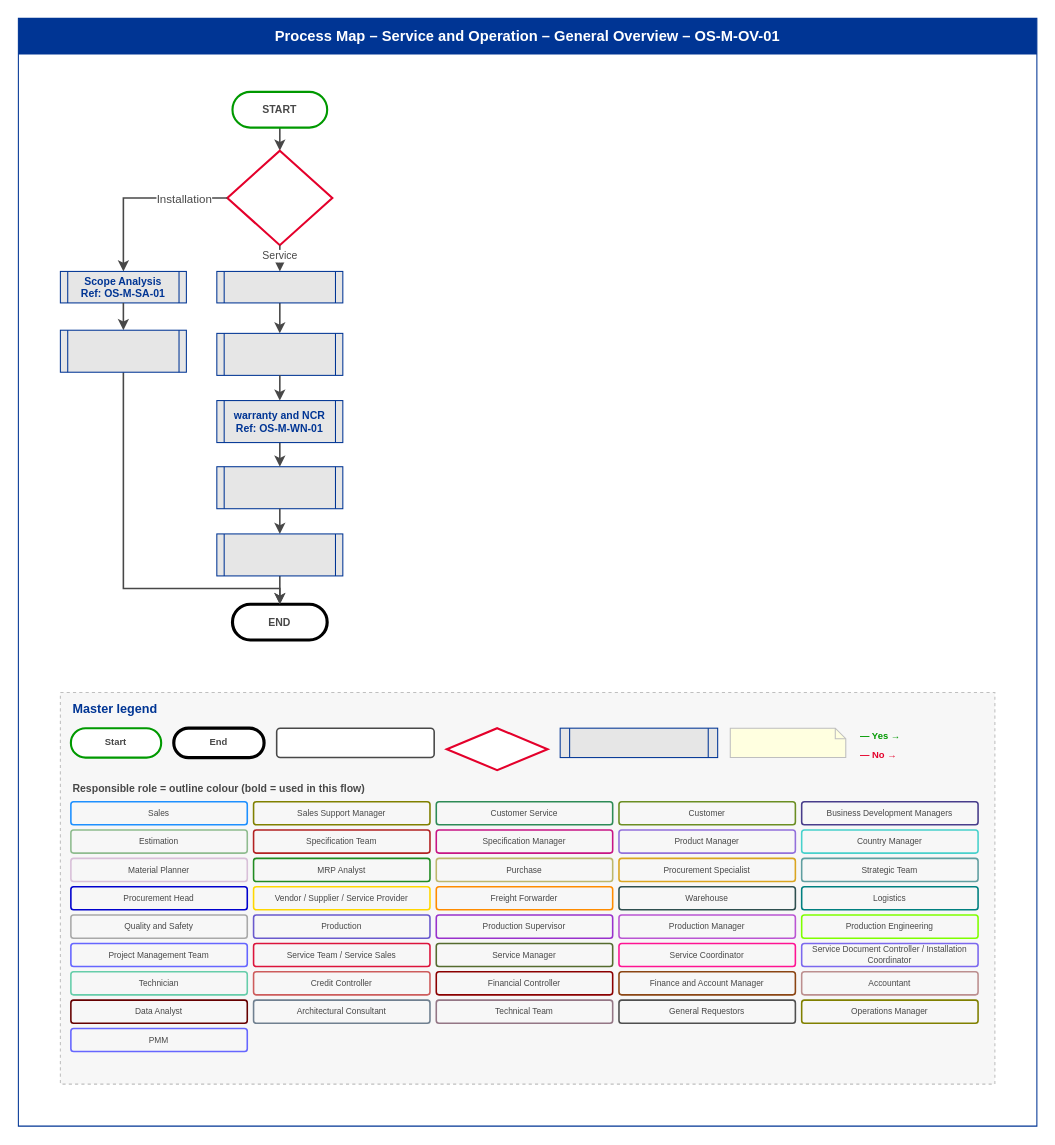
Some shapes in this 1055 by 1145 pixel diagram are drawn without their labels. Here are the shapes that lost their labels. From the top down, the box of each, then its label:
(226, 149, 333, 246): Service & Installation
(216, 270, 343, 303): Contract Renewal Ref: OS-M-CR-01
(59, 329, 186, 372): Installation & Commissioning Ref: OS-M-IC-01
(216, 332, 343, 375): Maintenance & Break-down Ref: OS-M-MB-01
(216, 466, 343, 509): Documentation & Invoice Ref: OS-M-DI-01
(216, 533, 343, 576): Payment Collection Ref: OS-M-PC-01
(275, 727, 434, 758): Activity (outline = role)
(445, 727, 548, 771): Decision
(559, 727, 718, 758): Linked process (Ref ID)
(729, 727, 846, 758): Note / checklist
